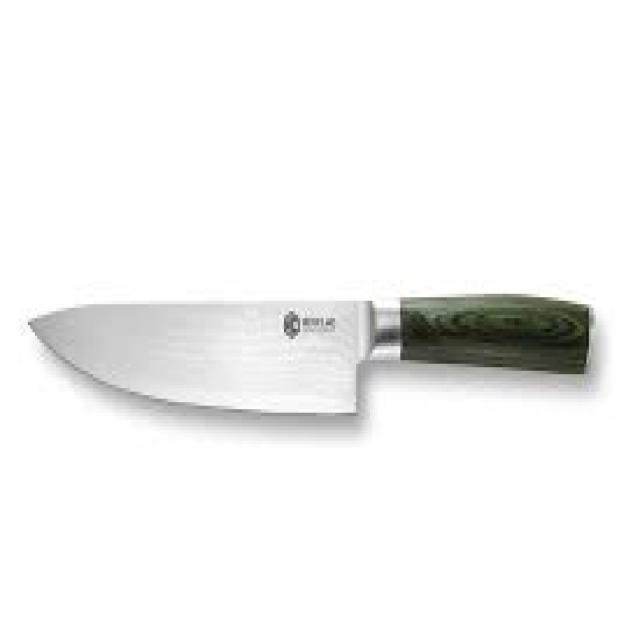knife: (30, 297, 591, 415)
